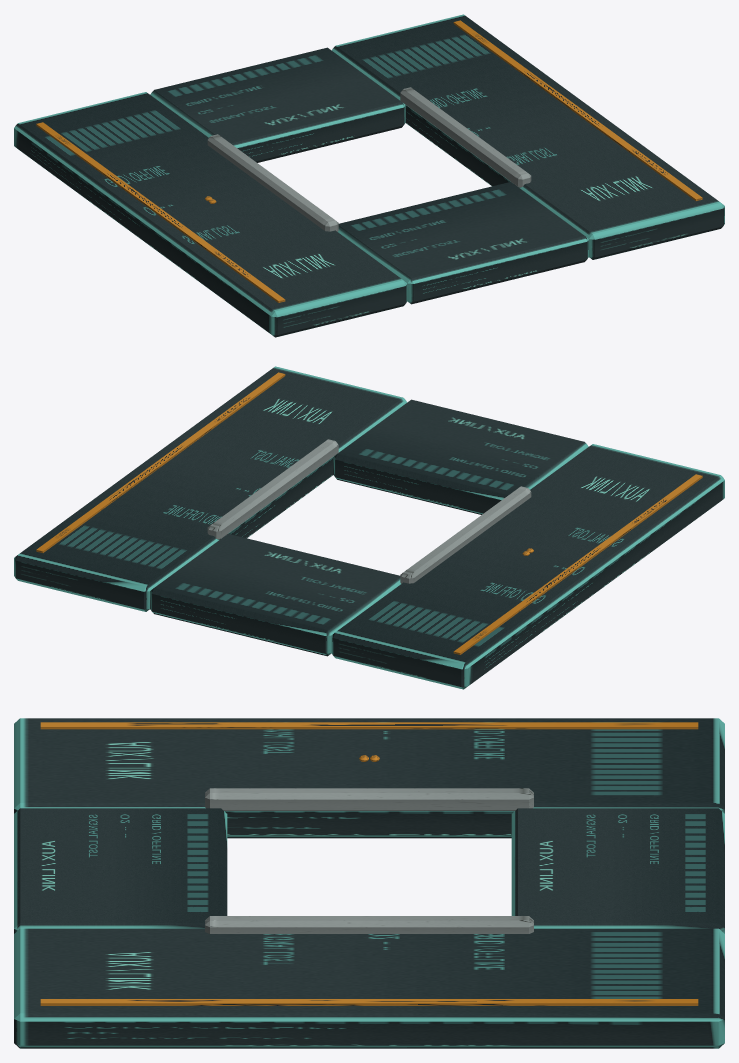
The model's file is roof_skylight_4m_LOD0.obj.
3 renders of one model, top to bottom at view 1: azimuth 30°, elevation 25°; view 2: azimuth 150°, elevation 25°; view 3: azimuth 270°, elevation 25°, orthographic. The views are drawn at different scales.
Visible parts, largest first — view 1: L02_roof_skylight_4m_LOD0; view 2: L02_roof_skylight_4m_LOD0; view 3: L02_roof_skylight_4m_LOD0.
Part boxes in pixels (left/top/right/bottom): L02_roof_skylight_4m_LOD0: left=14, top=14, right=724, bottom=337; L02_roof_skylight_4m_LOD0: left=14, top=366, right=724, bottom=689; L02_roof_skylight_4m_LOD0: left=14, top=718, right=724, bottom=1048.
Size of the model in its own units: 4 by 0.29 by 4.
1 material, 1 textured.
